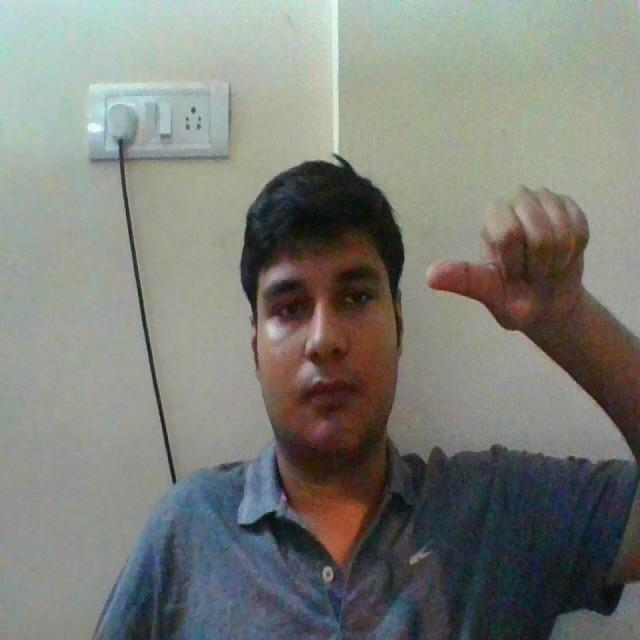Yes: (427, 154, 596, 354)
